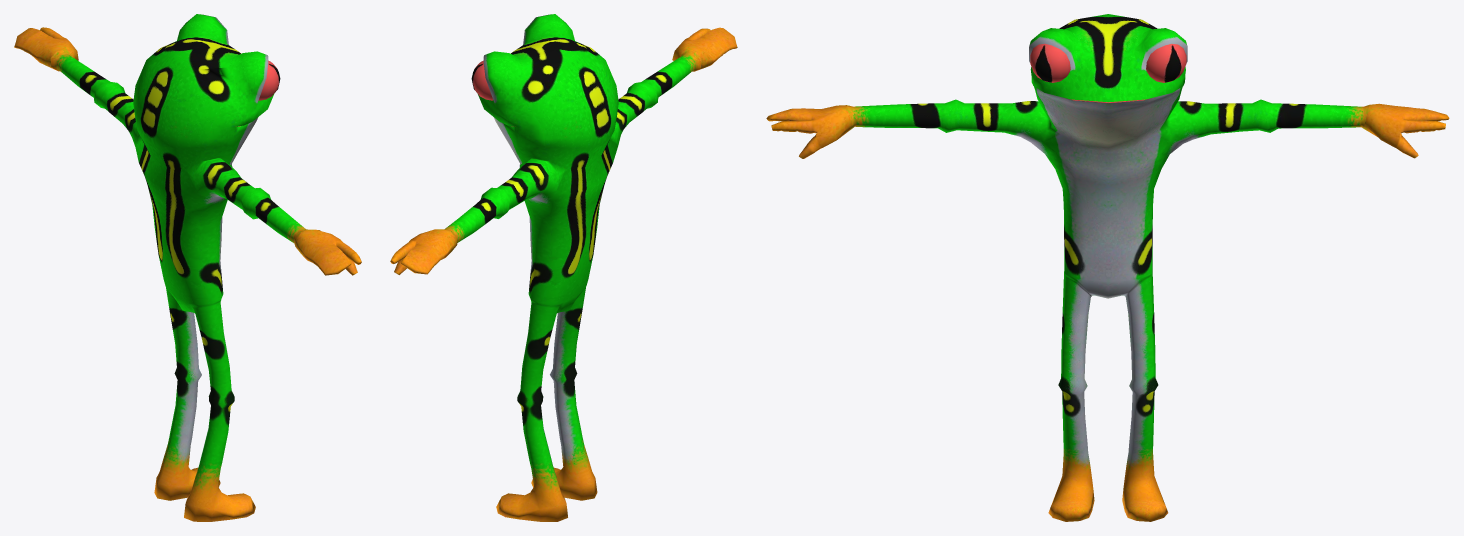
File: frog.glb
The picture shows the model from 3 angles, left to right: view 1: azimuth 30°, elevation 25°; view 2: azimuth 150°, elevation 25°; view 3: azimuth 270°, elevation 25°; orthographic projection. The views are drawn at different scales.
Visible parts, largest first — view 1: mesh_char_104_1; view 2: mesh_char_104_1; view 3: mesh_char_104_1.
Boxes of the visible parts, <box> form: mesh_char_104_1: <box>14,14,361,521</box>; mesh_char_104_1: <box>390,14,737,521</box>; mesh_char_104_1: <box>766,14,1449,521</box>.
Bounding box in the file's own units: 1.08 × 3.95 × 5.02.
1 material, 1 textured.
